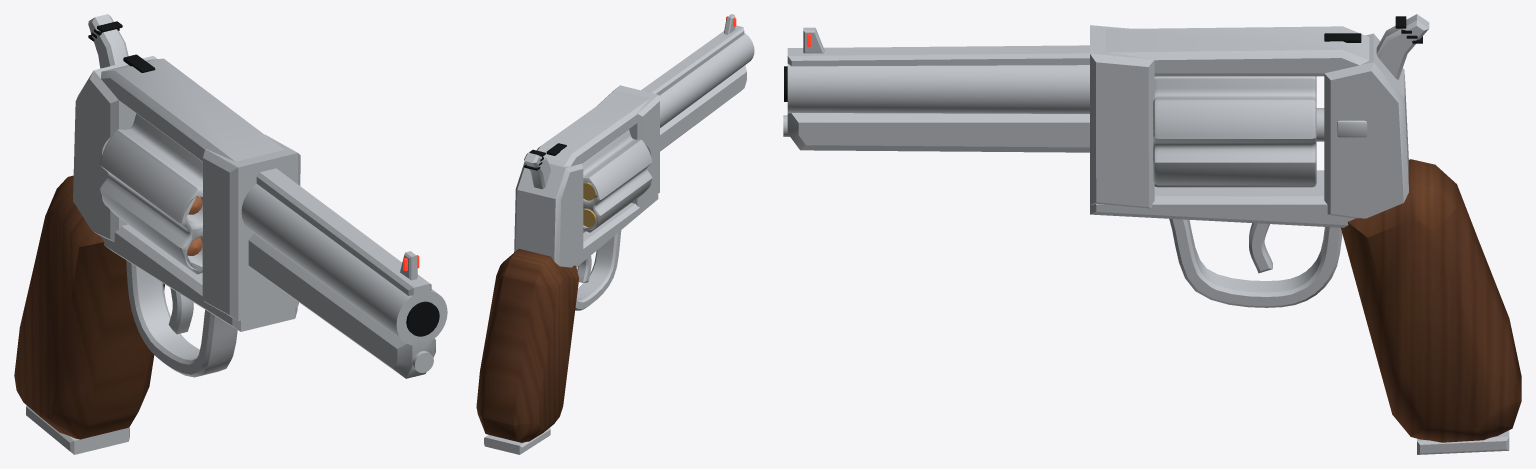
File: Remington_1875.glb
3 renders of one model, left to right at view 1: azimuth 30°, elevation 25°; view 2: azimuth 150°, elevation 25°; view 3: azimuth 270°, elevation 25°, orthographic. The views are drawn at different scales.
Visible parts, largest first — view 1: Frame, Cylinder, Hammer; view 2: Frame, Cylinder, Hammer; view 3: Frame, Cylinder, Hammer.
Part boxes in pixels (x1,y1,x2,y2): Frame: (14, 54, 447, 454); Cylinder: (100, 113, 202, 274); Hammer: (88, 14, 128, 68); Frame: (476, 14, 754, 454); Cylinder: (582, 129, 652, 232); Hammer: (524, 149, 550, 189); Frame: (783, 25, 1521, 454); Cylinder: (1153, 76, 1324, 187); Hammer: (1376, 14, 1429, 79).
Size of the model in its own units: 0.0401 by 0.152 by 0.2395.
Materials: 6 (1 with a texture image).
